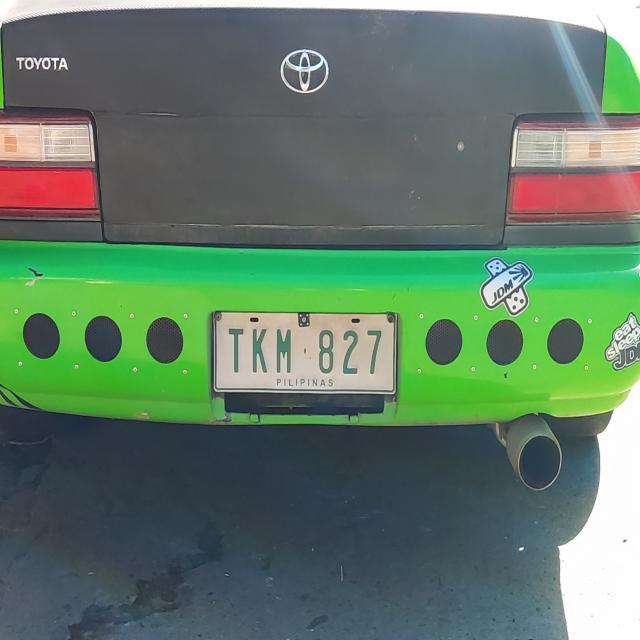LicensePlate: (200, 306, 410, 404)
